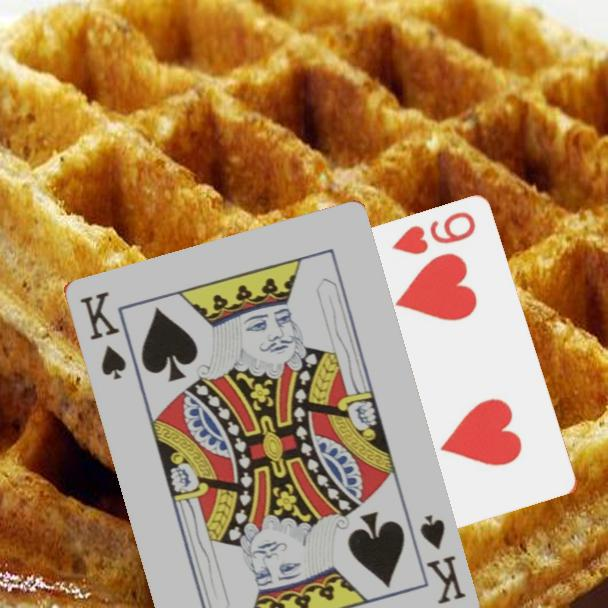h09: (388, 208, 479, 259)
s13: (415, 510, 468, 607), (76, 287, 129, 383)
